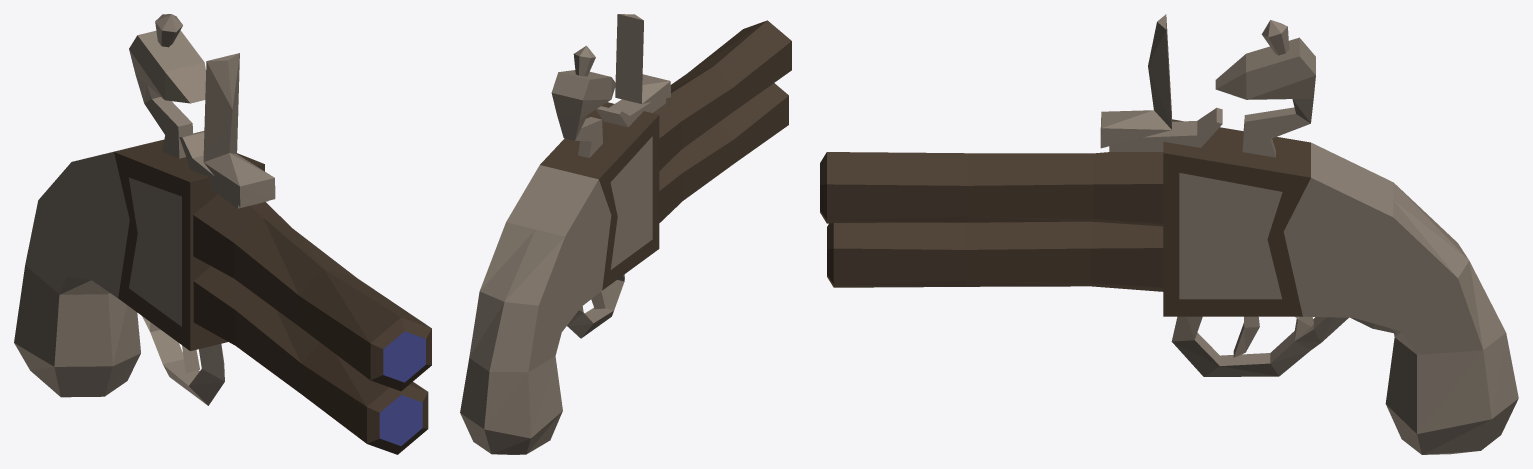
The model's file is SM_Wep_Pistol_DoubleBarrel_01_Separate.glb.
The picture shows the model from 3 angles, left to right: view 1: azimuth 30°, elevation 25°; view 2: azimuth 150°, elevation 25°; view 3: azimuth 270°, elevation 25°; orthographic projection. The views are drawn at different scales.
Parts seen in each view (by area): view 1: SM_Wep_Pistol_DoubleBarrel_01_Separate_00, SM_Wep_Pistol_DoubleBarrel_01_Separate_01; view 2: SM_Wep_Pistol_DoubleBarrel_01_Separate_00, SM_Wep_Pistol_DoubleBarrel_01_Separate_01; view 3: SM_Wep_Pistol_DoubleBarrel_01_Separate_00, SM_Wep_Pistol_DoubleBarrel_01_Separate_01.
Part boxes in pixels (x1,y1,x2,y2): SM_Wep_Pistol_DoubleBarrel_01_Separate_00: (14, 53, 431, 454); SM_Wep_Pistol_DoubleBarrel_01_Separate_01: (129, 14, 205, 158); SM_Wep_Pistol_DoubleBarrel_01_Separate_00: (460, 14, 791, 454); SM_Wep_Pistol_DoubleBarrel_01_Separate_01: (551, 45, 616, 157); SM_Wep_Pistol_DoubleBarrel_01_Separate_00: (820, 14, 1518, 454); SM_Wep_Pistol_DoubleBarrel_01_Separate_01: (1215, 20, 1315, 157).
Bounding box in the file's own units: 0.0498 × 0.2397 × 0.3497.
Materials: 1 (1 with a texture image).
